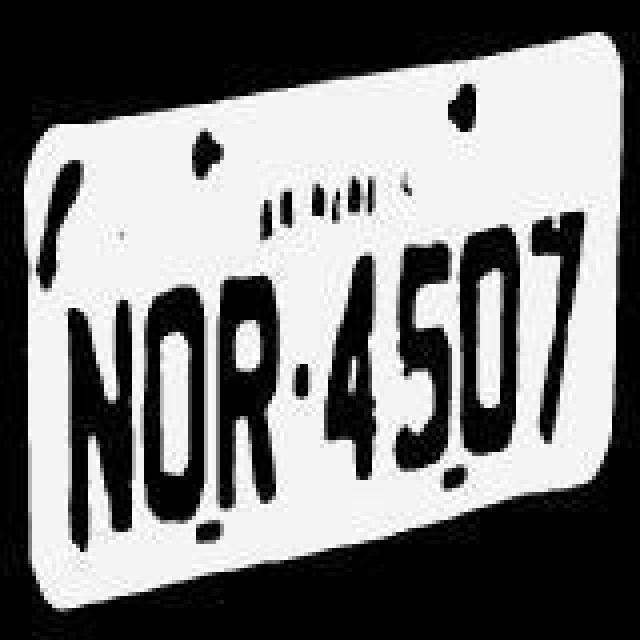4: (316, 252, 388, 484)
5: (388, 234, 460, 470)
7: (528, 176, 592, 448)
N: (64, 296, 144, 568)
O: (140, 270, 212, 530), (458, 210, 526, 462)
R: (216, 278, 296, 522)
